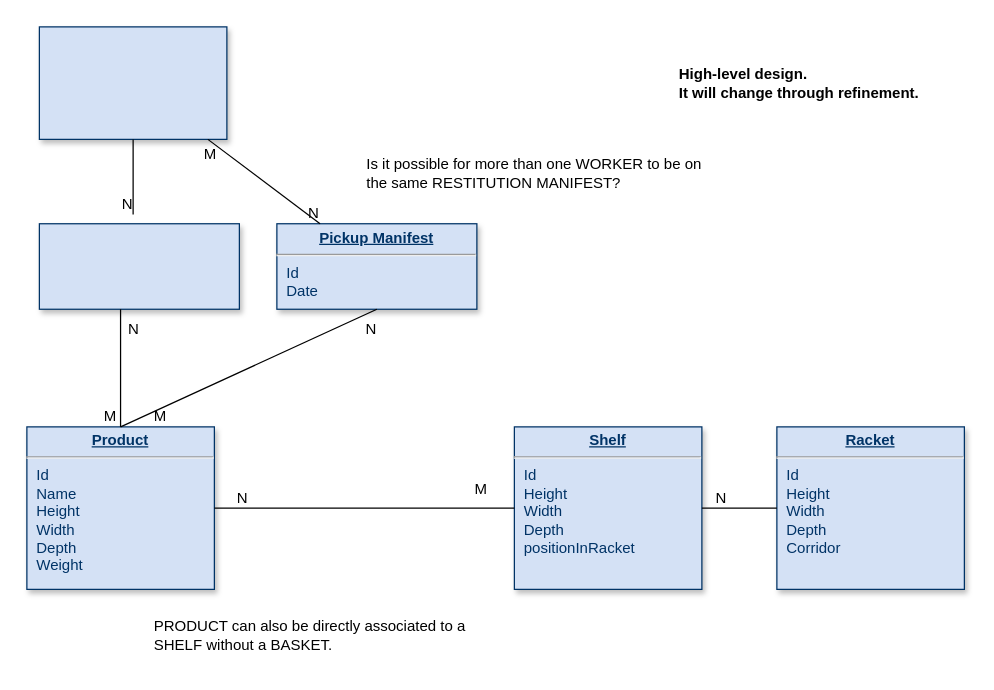
Image size: 994x690. Some labels were removed from this diagram. Here are the shapes that lost their labels. From the top down, the centre of each, then its label:
At (x=133, y=84): "Worker Id Name Performance".
At (x=140, y=268): "Restitution Manifest Id Date".
